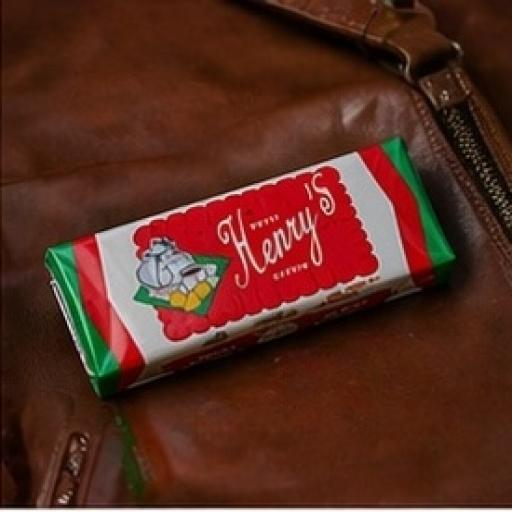henry-s: (28, 133, 488, 396)
